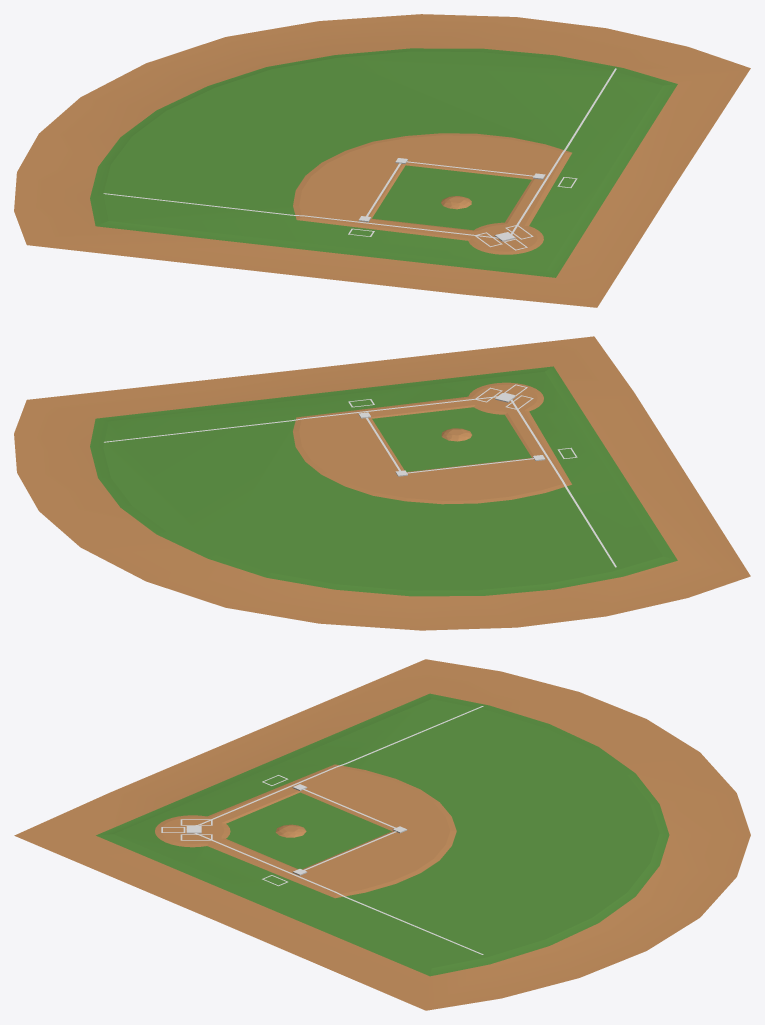
Rendered from Baseball Field2.fbx.
3 views of the same model, one above another, from view 1: azimuth 30°, elevation 25°; view 2: azimuth 150°, elevation 25°; view 3: azimuth 270°, elevation 25° (orthographic).
Parts seen in each view (by area): view 1: White Lines; view 2: White Lines; view 3: White Lines.
Boxes of the visible parts, bbox=[...] form: White Lines: bbox=[14, 14, 750, 307]; White Lines: bbox=[14, 336, 750, 630]; White Lines: bbox=[14, 659, 750, 1010].
Bounding box in the file's own units: 3174 × 26.13 × 2812.
